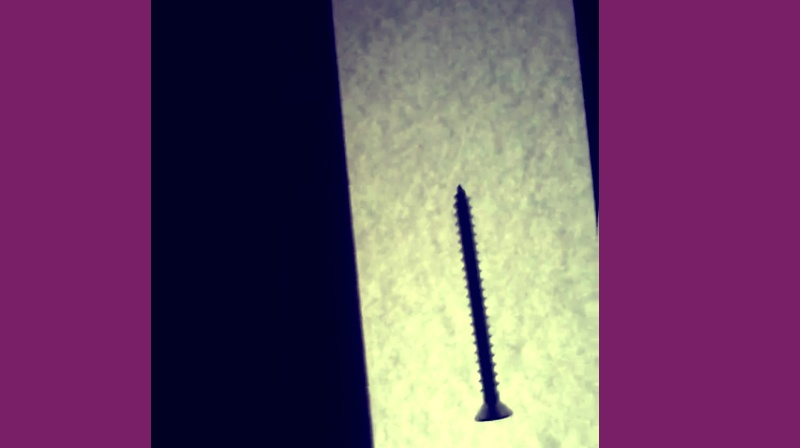S002: (450, 179, 515, 423)
